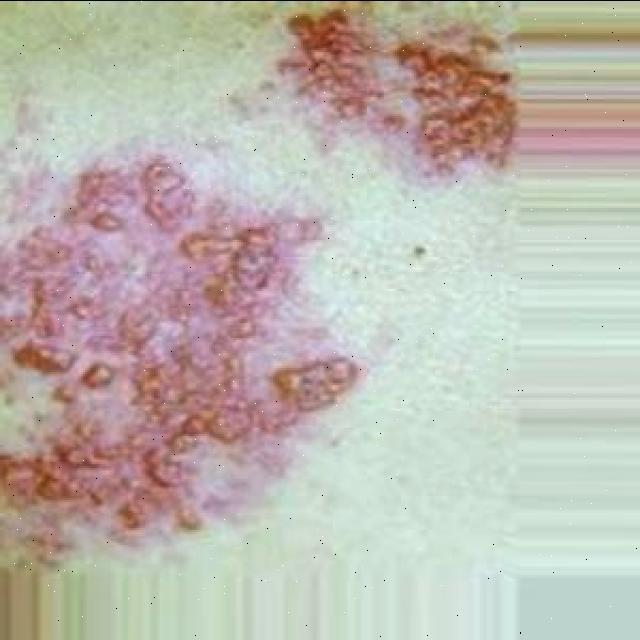Shingles: (0, 150, 360, 547), (281, 3, 515, 178)
